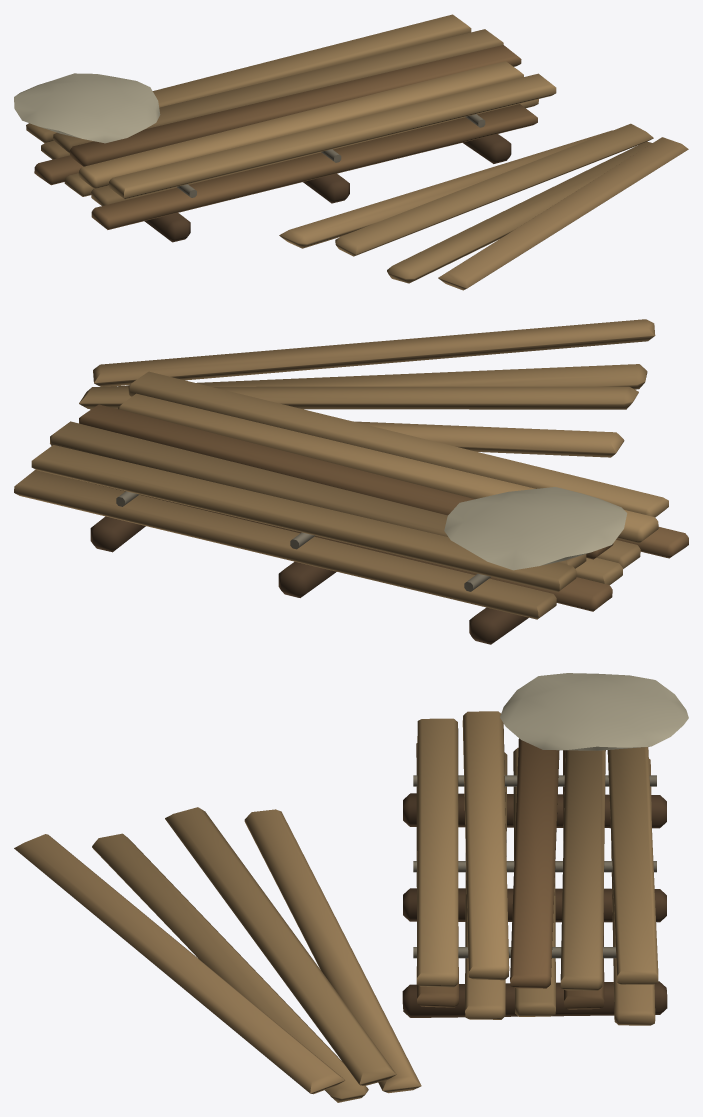
The model's file is timber_stack_b.glb.
The picture shows the model from 3 angles, top to bottom: view 1: azimuth 30°, elevation 25°; view 2: azimuth 150°, elevation 25°; view 3: azimuth 270°, elevation 25°; orthographic projection. The views are drawn at different scales.
Parts seen in each view (by area): view 1: Surface; view 2: Surface; view 3: Surface.
Part boxes in pixels (x1,y1,x2,y2): Surface: [14, 14, 688, 290]; Surface: [14, 319, 688, 644]; Surface: [14, 673, 688, 1102].
Size of the model in its own units: 3.8 by 0.6831 by 3.32.
